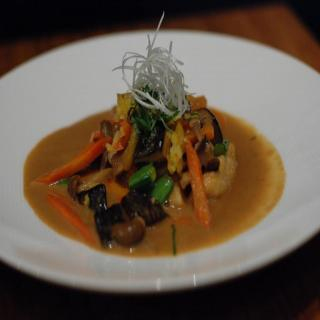Carrot: (32, 136, 114, 185), (185, 138, 212, 233), (46, 196, 98, 241)
